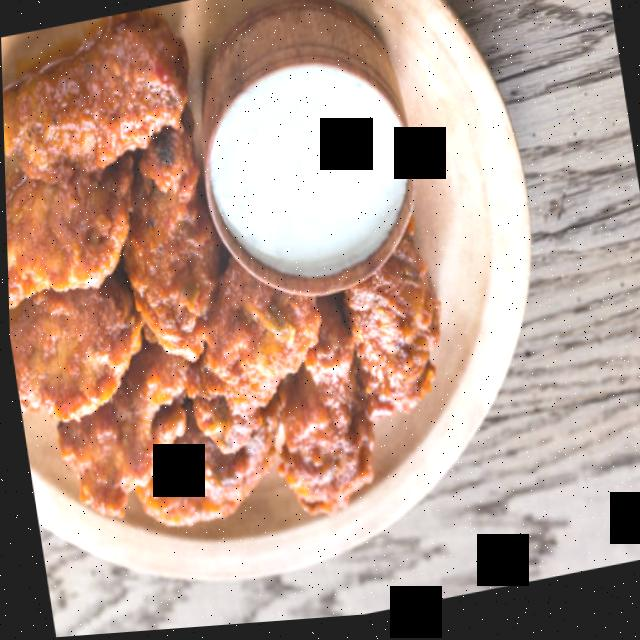Frango: (0, 0, 471, 583)
